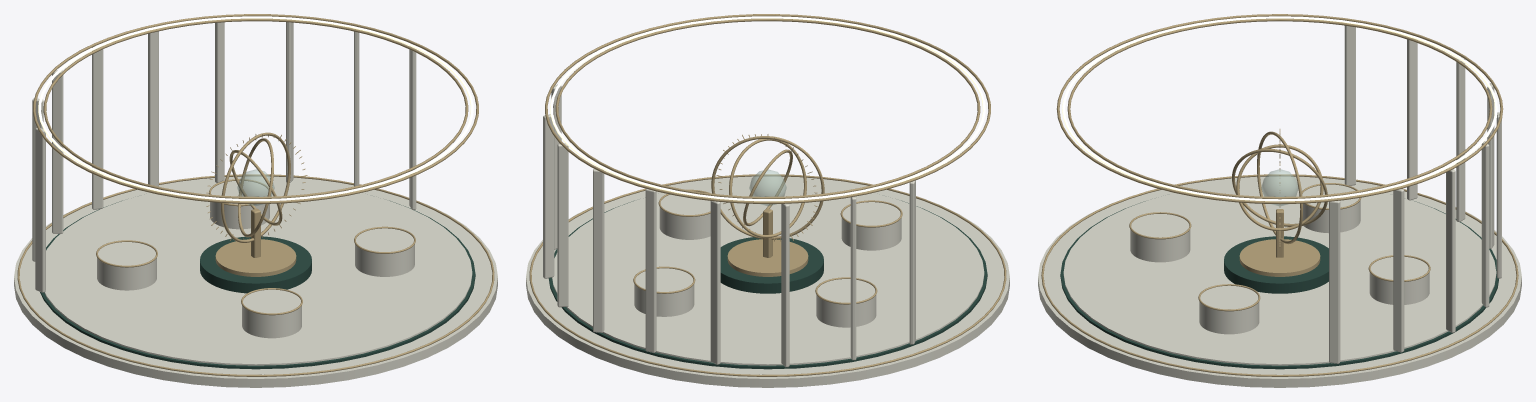
The model's file is overview.glb.
3 views of the same model, side by side, from view 1: azimuth 30°, elevation 25°; view 2: azimuth 150°, elevation 25°; view 3: azimuth 270°, elevation 25° (orthographic).
Visible parts, largest first — view 1: overview; view 2: overview; view 3: overview.
Part boxes in pixels (x1,y1,x2,y2): overview: (14, 14, 497, 387); overview: (526, 14, 1009, 387); overview: (1038, 14, 1521, 387).
Size of the model in its own units: 10.8 by 4.38 by 10.8.
